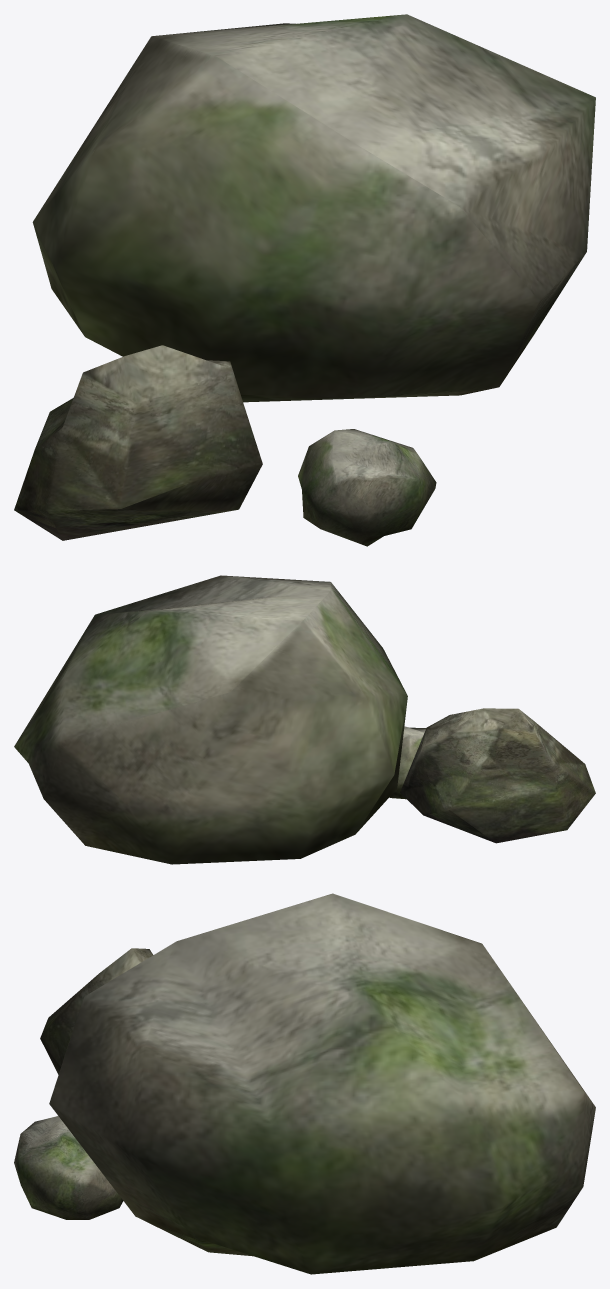
Rendered from rock_group_4_floor.fbx.
The picture shows the model from 3 angles, top to bottom: view 1: azimuth 30°, elevation 25°; view 2: azimuth 150°, elevation 25°; view 3: azimuth 270°, elevation 25°; orthographic projection. The views are drawn at different scales.
Parts seen in each view (by area): view 1: rock_1, rock_2, rock_3; view 2: rock_1, rock_2, rock_3; view 3: rock_1, rock_3, rock_2.
Part boxes in pixels (bbox=[...]): rock_1: bbox=[32, 14, 595, 402]; rock_2: bbox=[14, 345, 262, 540]; rock_3: bbox=[298, 429, 436, 546]; rock_1: bbox=[14, 575, 407, 864]; rock_2: bbox=[400, 708, 595, 843]; rock_3: bbox=[389, 726, 426, 799]; rock_1: bbox=[49, 893, 595, 1274]; rock_3: bbox=[14, 1116, 123, 1219]; rock_2: bbox=[40, 948, 153, 1074].
Size of the model in its own units: 586 by 315 by 523.
1 material, 1 textured.
